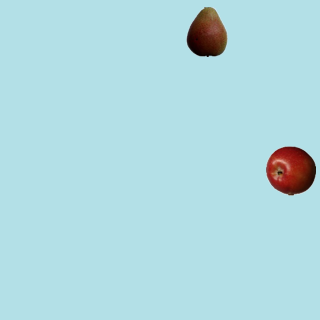Apple Braeburn: (265, 145, 315, 195)
Pear Forelle: (181, 6, 231, 56)
